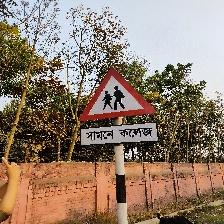College-in-front: (45, 56, 198, 172)
